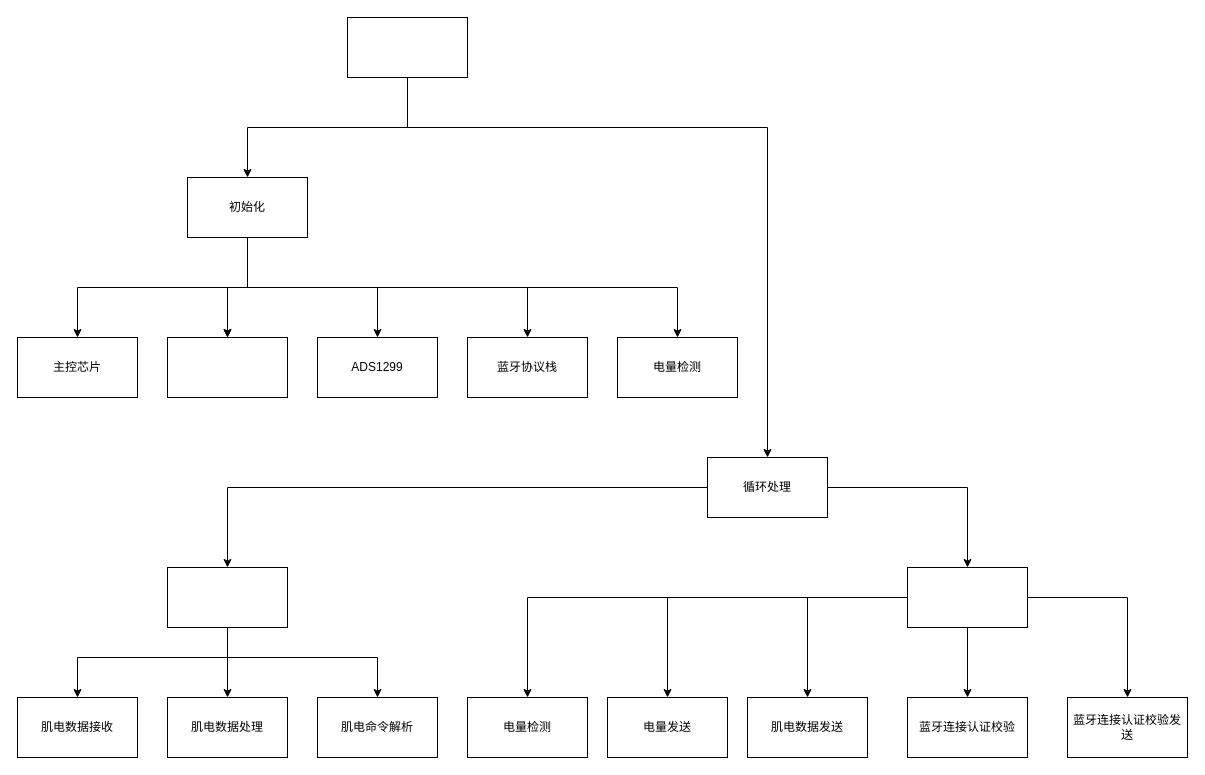
Some shapes in this 1205 by 775 pixel diagram are drawn without their labels. Here are the shapes that lost their labels. From the top down, the box of each, then its label:
(346, 16, 468, 78): 嵌入式系统
(166, 336, 288, 398): OTA
(166, 566, 288, 628): 肌电采集处理
(906, 566, 1028, 628): 蓝牙发射处理
